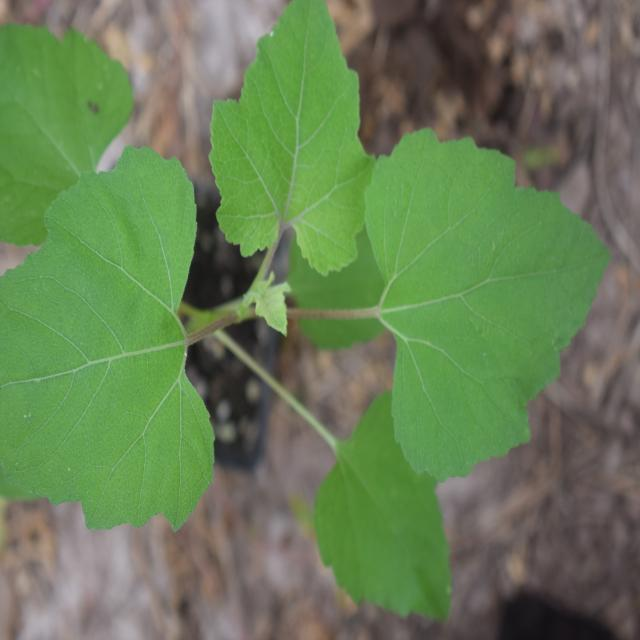cocklebur: (0, 19, 601, 581)
